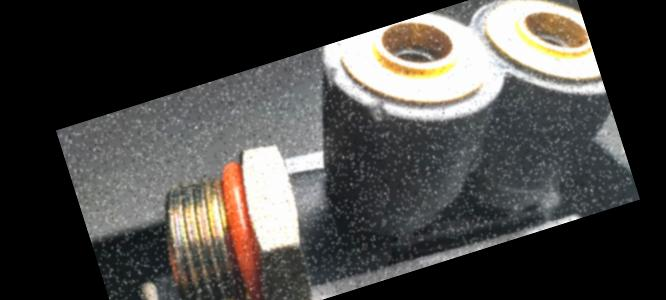bump: (314, 59, 344, 90), (364, 97, 389, 124)
joint line: (294, 182, 327, 199)
